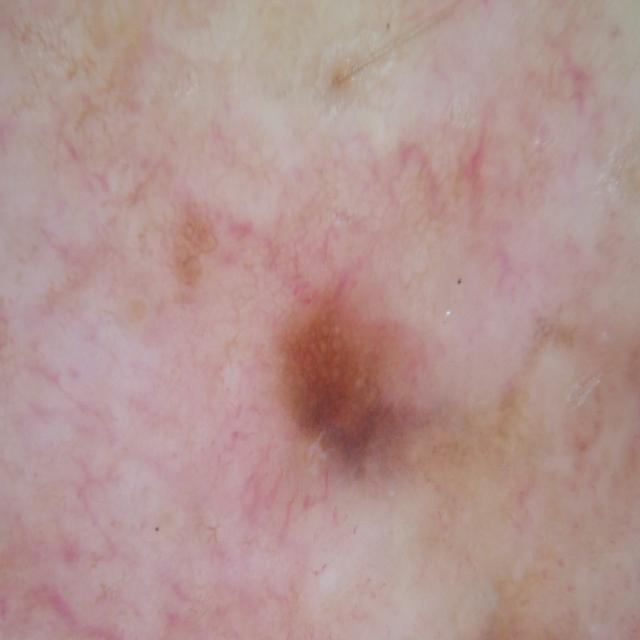Melanoma: (186, 211, 507, 627)
